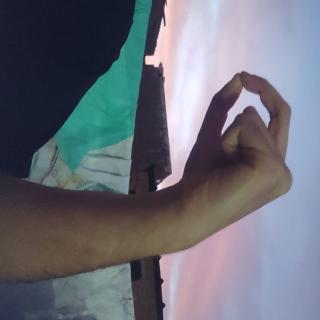FAA: (52, 31, 191, 203)
